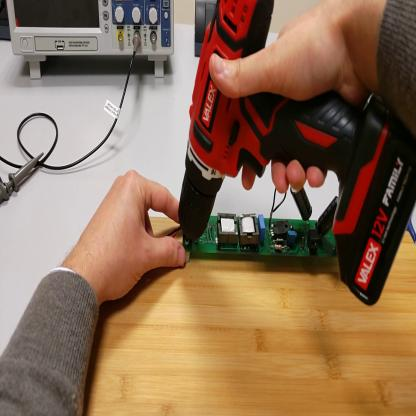electric screwdriver: (179, 1, 416, 312)
hand: (210, 3, 369, 198), (79, 170, 187, 304)
high voltage board: (166, 189, 350, 258)
oscilloscope: (7, 3, 174, 82)
oscilloscope probe tip: (1, 152, 44, 210)
pliers: (407, 221, 416, 244)
socket: (1, 3, 12, 41)
working area: (83, 215, 416, 416)
